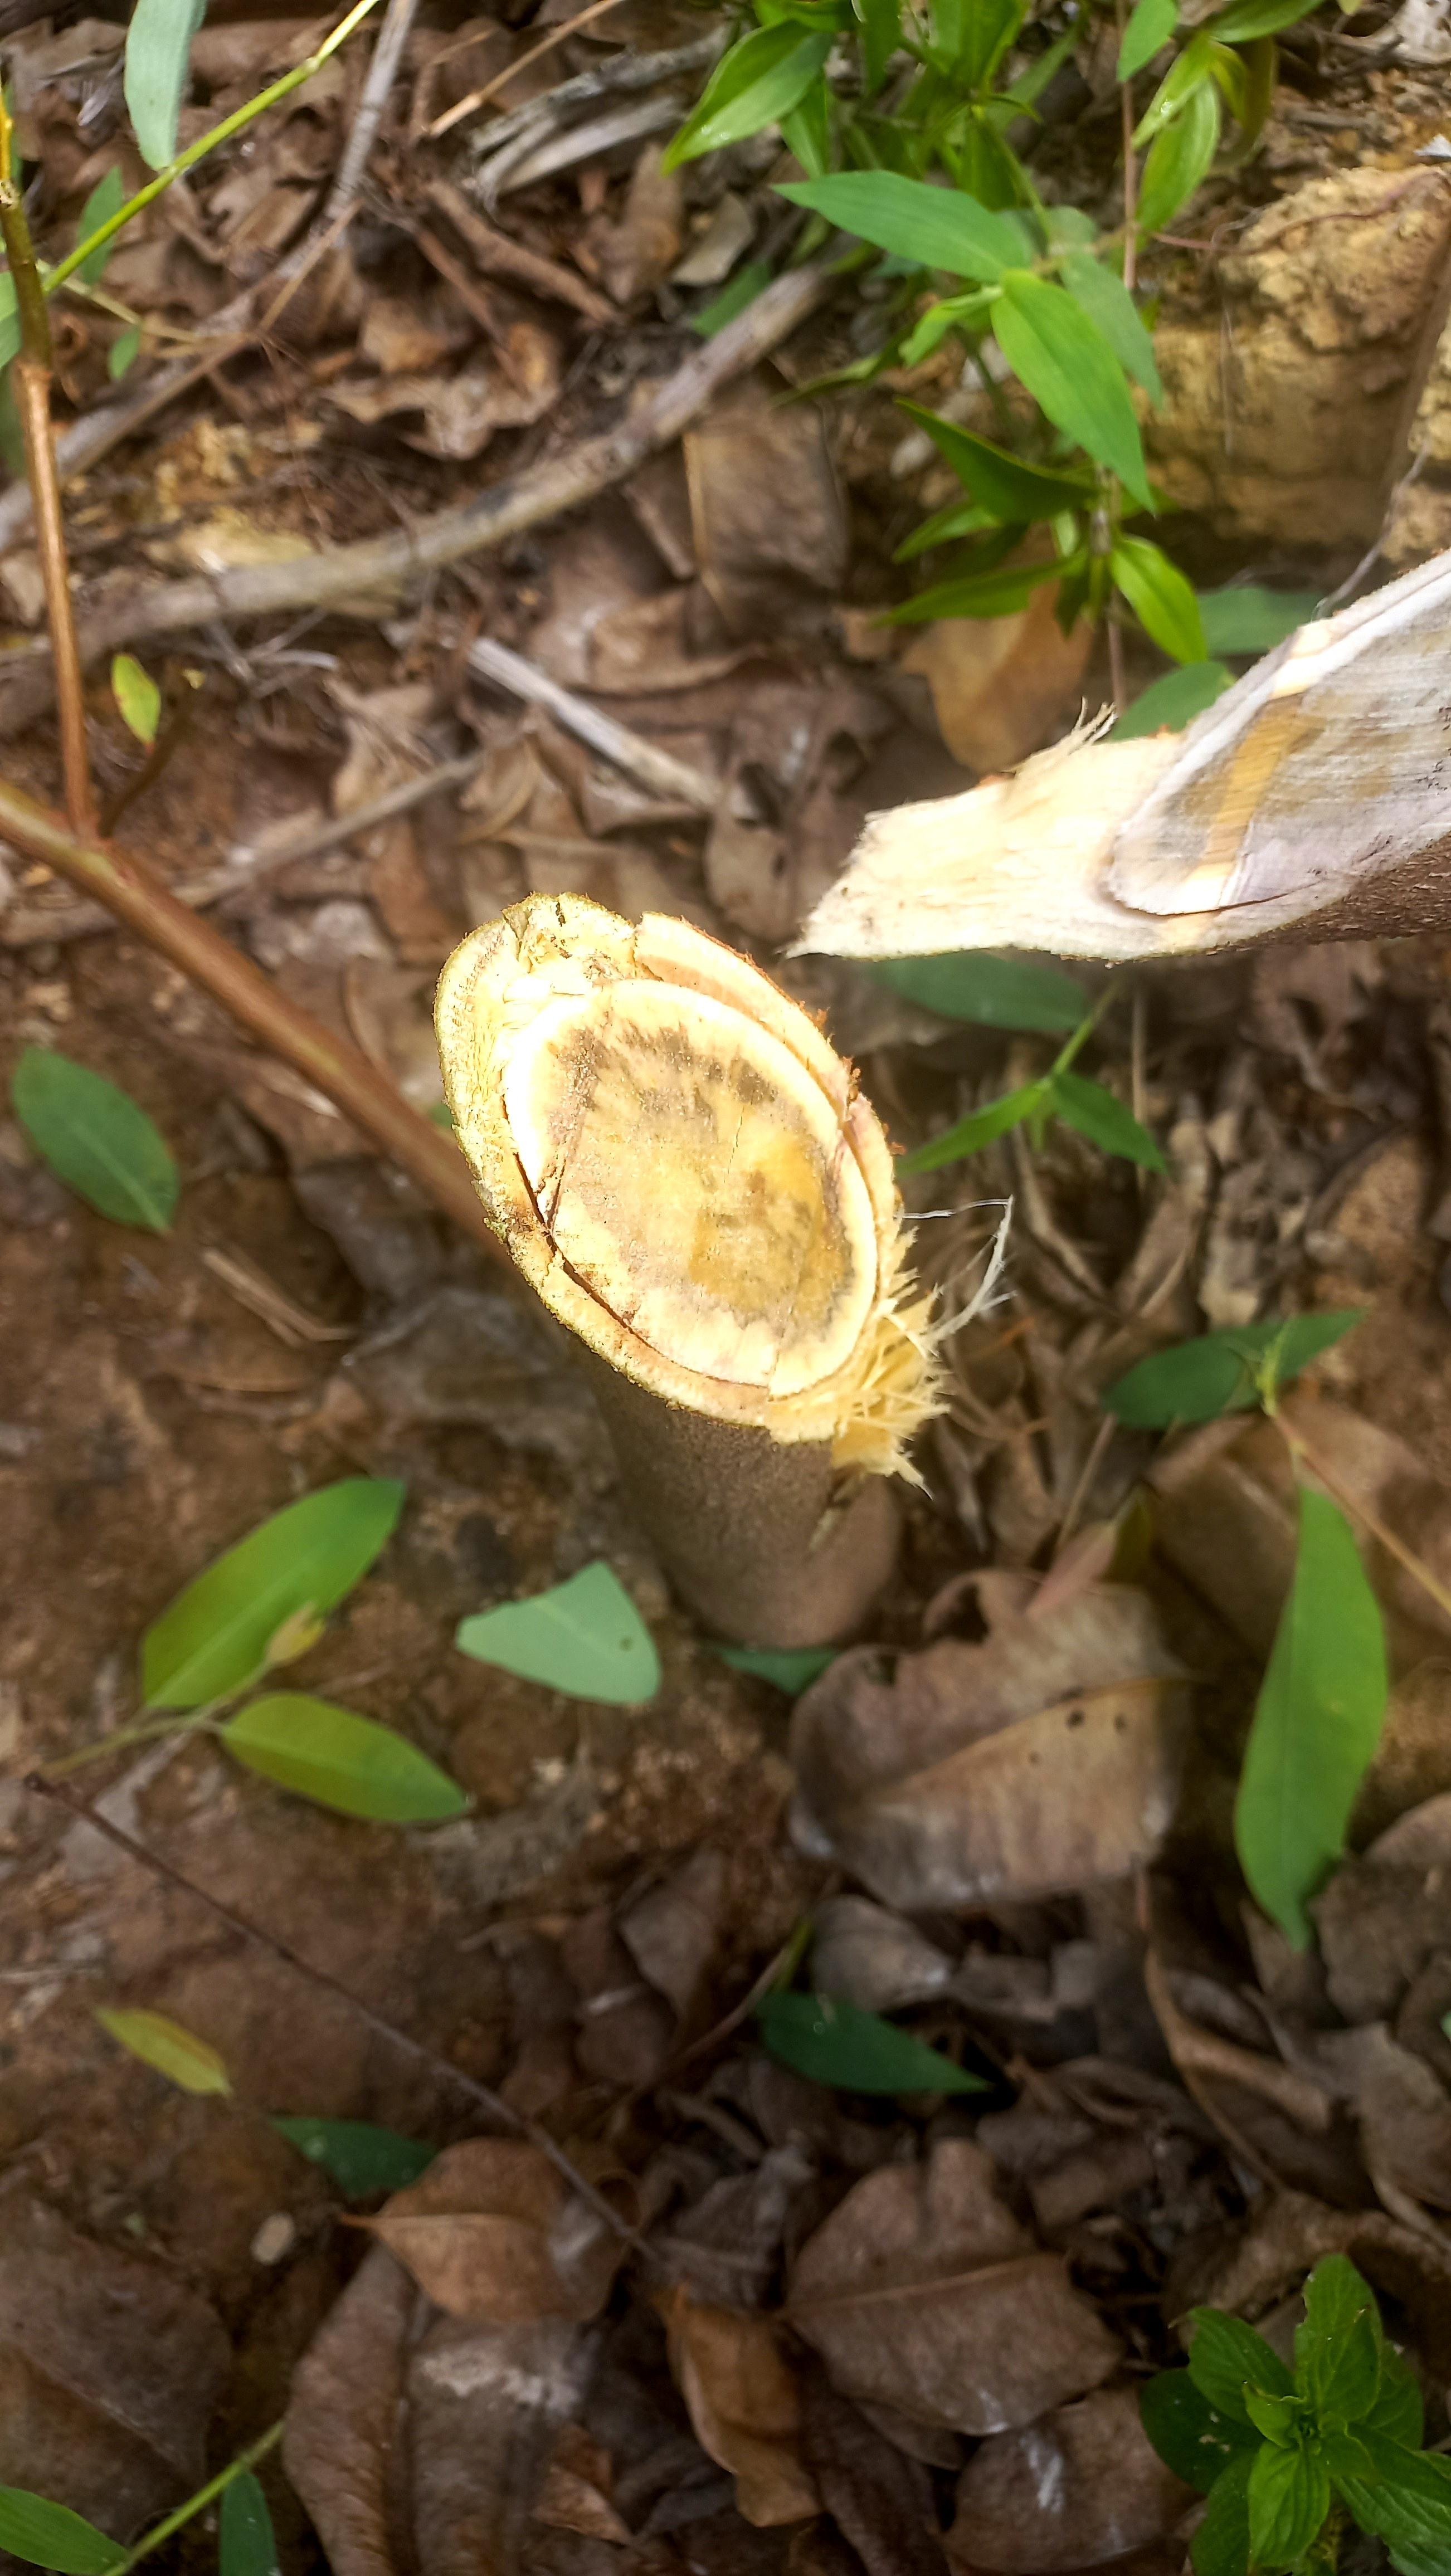Ralstonia: (625, 1042, 779, 1145), (1170, 755, 1233, 870), (695, 1198, 782, 1253), (554, 1134, 610, 1212), (556, 1037, 600, 1127), (614, 1235, 662, 1283), (699, 1293, 741, 1332)
